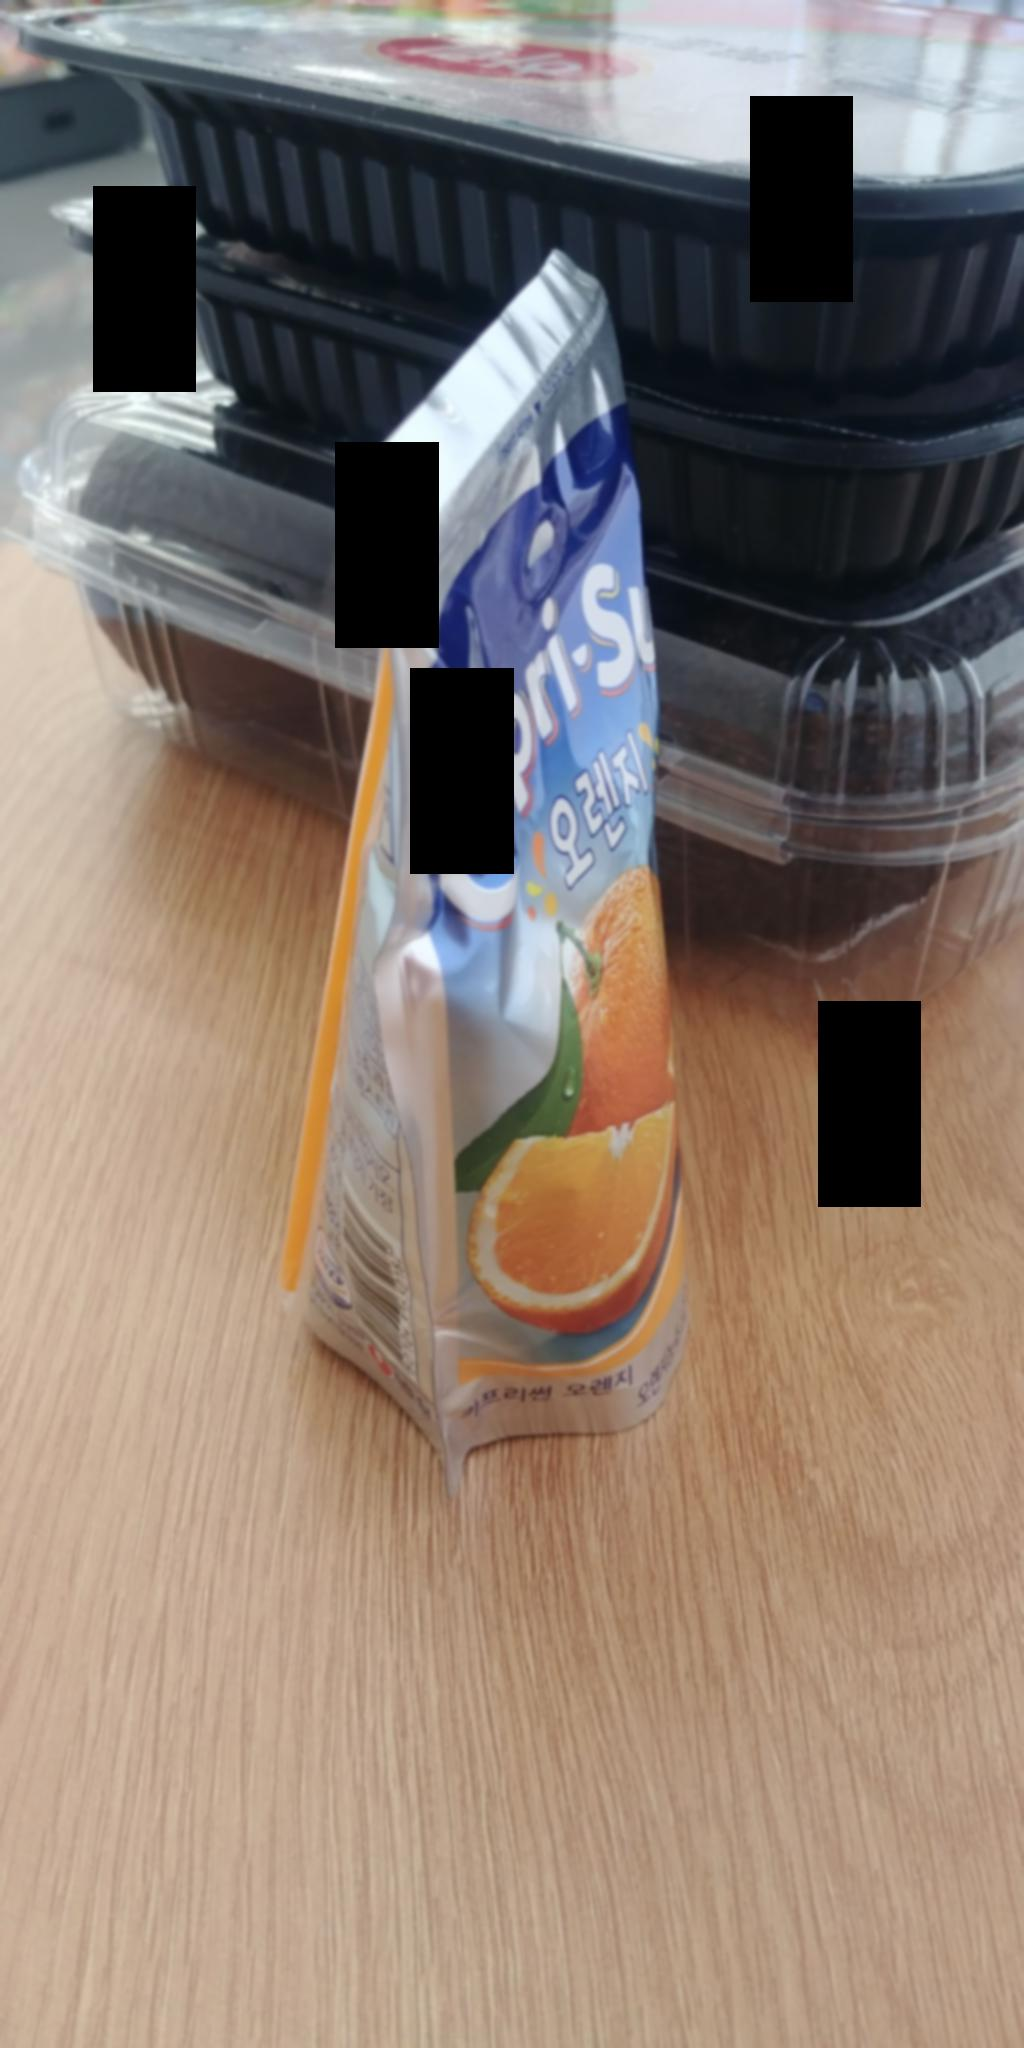cafrisun: (256, 244, 738, 1464)
